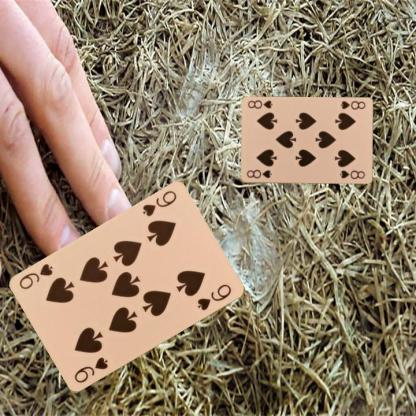8s: (338, 98, 366, 111), (244, 168, 273, 180)
9s: (139, 188, 178, 218), (71, 355, 109, 385)
